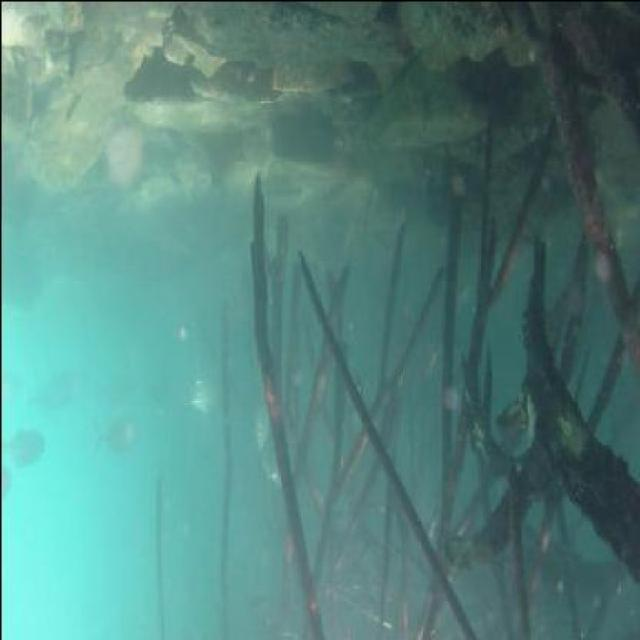Caranx_sexfasciatus_juvenile: (81, 404, 134, 459), (172, 364, 225, 418), (25, 360, 80, 411), (0, 422, 48, 478)
